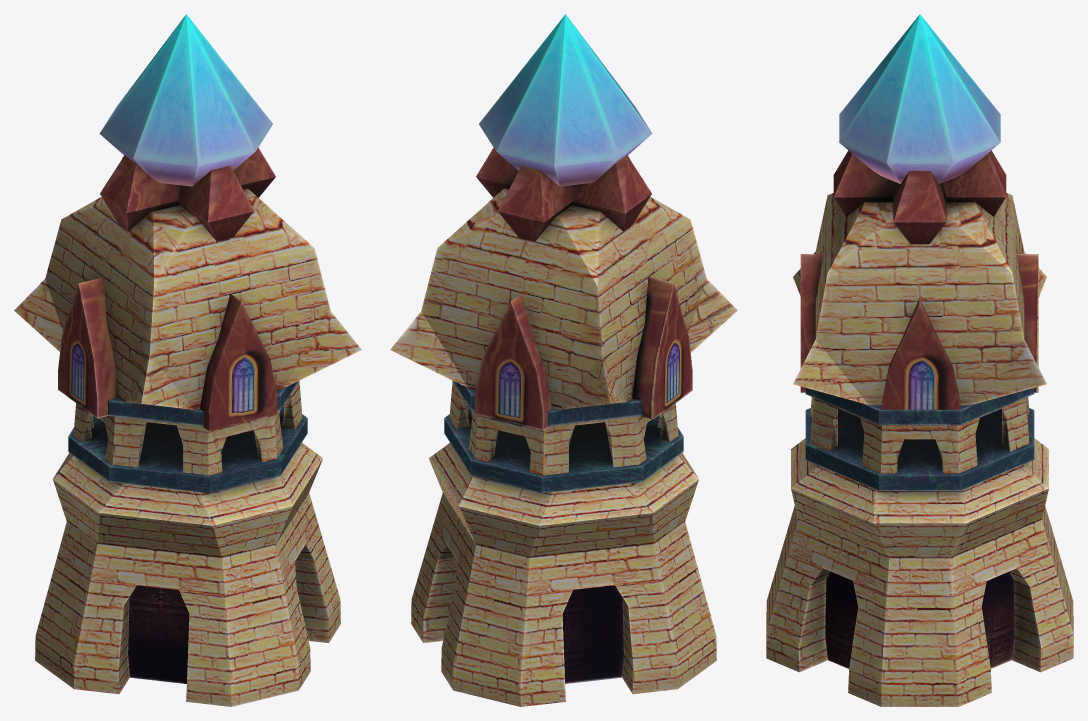
File: MagicTowerLod1.fbx
The picture shows the model from 3 angles, left to right: view 1: azimuth 30°, elevation 25°; view 2: azimuth 150°, elevation 25°; view 3: azimuth 270°, elevation 25°; orthographic projection.
Parts seen in each view (by area): view 1: MagicTowerLod1; view 2: MagicTowerLod1; view 3: MagicTowerLod1.
Boxes of the visible parts, x1=… form: MagicTowerLod1: x1=14, y1=14, x2=361, y2=706; MagicTowerLod1: x1=390, y1=14, x2=737, y2=706; MagicTowerLod1: x1=766, y1=14, x2=1073, y2=706.
Size of the model in its own units: 3.8 by 8.56 by 3.8.
1 material, 1 textured.
